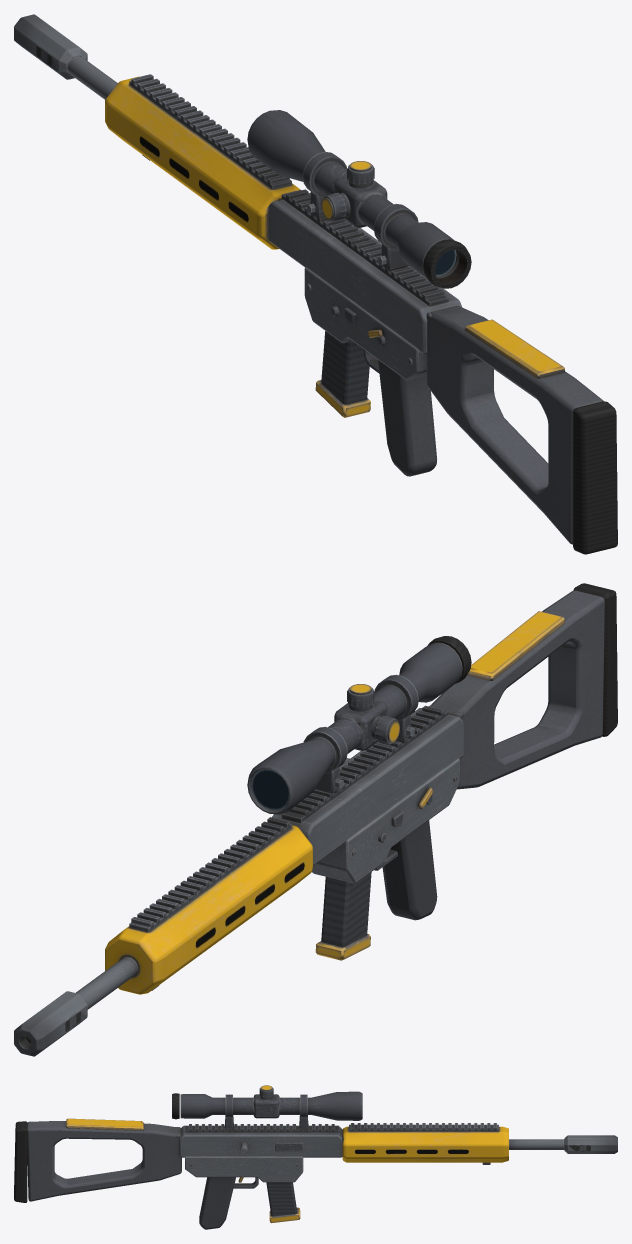
Rendered from rifle.glb.
3 renders of one model, top to bottom at view 1: azimuth 30°, elevation 25°; view 2: azimuth 150°, elevation 25°; view 3: azimuth 270°, elevation 25°, orthographic. The views are drawn at different scales.
Parts seen in each view (by area): view 1: rifle; view 2: rifle; view 3: rifle.
Boxes of the visible parts, x1=… form: rifle: x1=14, y1=14, x2=617, y2=554; rifle: x1=14, y1=583, x2=617, y2=1056; rifle: x1=14, y1=1085, x2=617, y2=1229.
Bounding box in the file's own units: 0.0791 × 0.2724 × 1.07.
8 materials, 8 textured.
